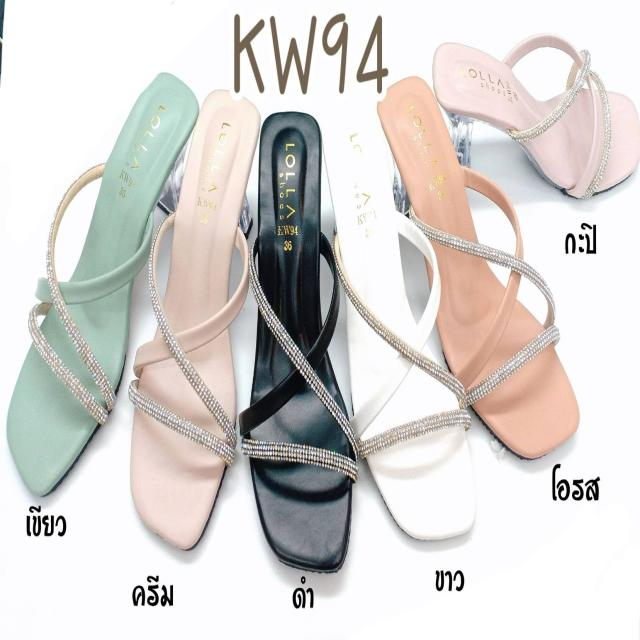black: (247, 112, 355, 572)
cream: (133, 86, 258, 549)
green: (7, 65, 199, 493)
kapi: (435, 36, 639, 202)
orot: (376, 78, 581, 465)
white: (319, 115, 479, 540)
